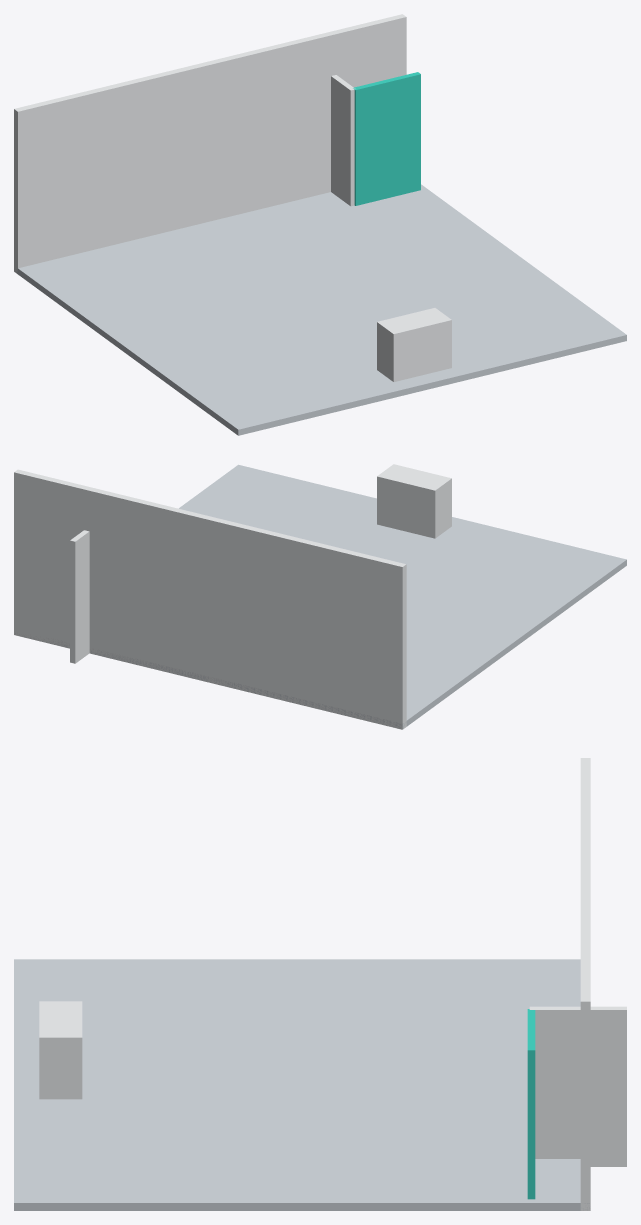
3 views of the same model, one above another, from view 1: azimuth 30°, elevation 25°; view 2: azimuth 150°, elevation 25°; view 3: azimuth 270°, elevation 25° (orthographic). The views are drawn at different scales.
Parts seen in each view (by area): view 1: Exhibition Booth Concept; view 2: Exhibition Booth Concept; view 3: Exhibition Booth Concept.
Boxes of the visible parts, x1,y1,x2,y2 form: Exhibition Booth Concept: [14, 14, 626, 435]; Exhibition Booth Concept: [14, 464, 626, 729]; Exhibition Booth Concept: [14, 758, 626, 1210].
Bounding box in the file's own units: 8 × 3.2 × 8.51.
